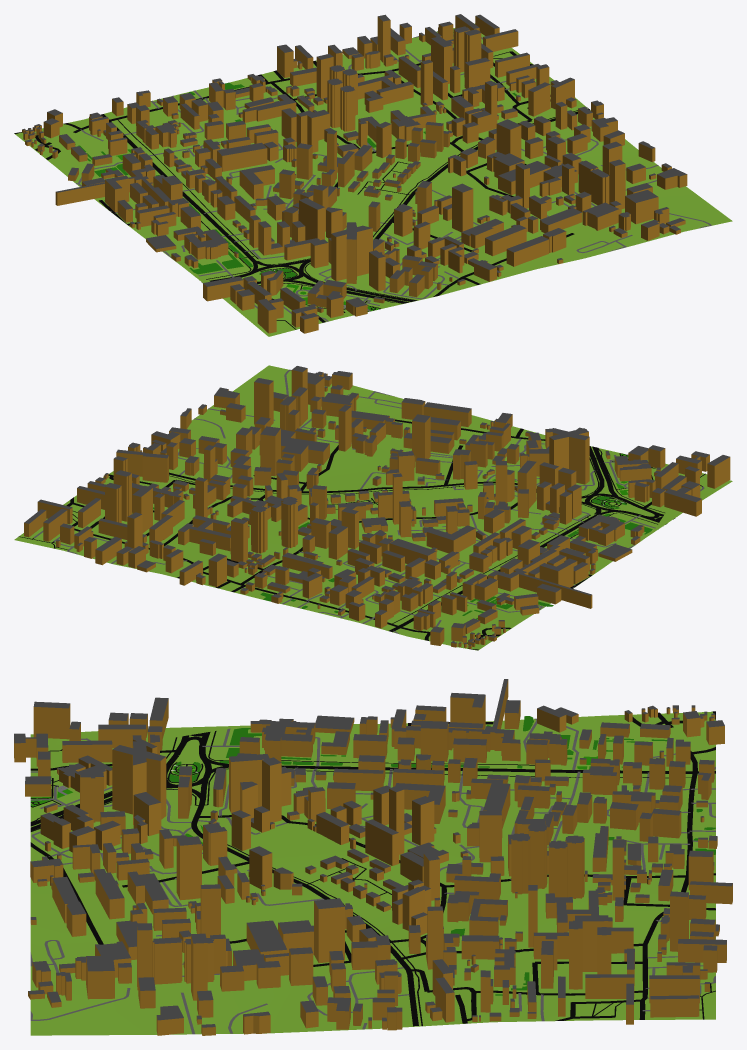
Rendered from tile_10_04.glb.
3 renders of one model, top to bottom at view 1: azimuth 30°, elevation 25°; view 2: azimuth 150°, elevation 25°; view 3: azimuth 270°, elevation 25°, orthographic. The views are drawn at different scales.
Visible parts, largest first — view 1: Ub_small.osm_buildings_10_04, Terrain_10_04, Ub_small.osm_roads_service_10_04, Ub_small.osm_roads_residential_10_04, Ub_small.osm_paths_footway_10_04, Ub_small.osm_forest_10_04, Ub_small.osm_roads_trunk_10_04, Ub_small.osm_roads_primary_10_04, Ub_small.osm_roads_secondary_10_04; view 2: Ub_small.osm_buildings_10_04, Terrain_10_04, Ub_small.osm_roads_service_10_04, Ub_small.osm_roads_residential_10_04, Ub_small.osm_paths_footway_10_04, Ub_small.osm_roads_trunk_10_04, Ub_small.osm_forest_10_04, Ub_small.osm_roads_secondary_10_04; view 3: Ub_small.osm_buildings_10_04, Terrain_10_04, Ub_small.osm_roads_residential_10_04, Ub_small.osm_roads_service_10_04, Ub_small.osm_forest_10_04, Ub_small.osm_paths_footway_10_04, Ub_small.osm_roads_secondary_10_04, Ub_small.osm_roads_trunk_10_04, Ub_small.osm_roads_primary_10_04.
Boxes of the visible parts, bbox=[...] form: Ub_small.osm_buildings_10_04: bbox=[22, 14, 687, 333]; Terrain_10_04: bbox=[14, 23, 732, 336]; Ub_small.osm_roads_service_10_04: bbox=[75, 34, 711, 321]; Ub_small.osm_roads_residential_10_04: bbox=[14, 51, 574, 322]; Ub_small.osm_paths_footway_10_04: bbox=[117, 31, 587, 329]; Ub_small.osm_forest_10_04: bbox=[75, 82, 517, 277]; Ub_small.osm_roads_trunk_10_04: bbox=[201, 264, 416, 303]; Ub_small.osm_roads_primary_10_04: bbox=[101, 114, 255, 261]; Ub_small.osm_roads_secondary_10_04: bbox=[251, 108, 590, 272]; Ub_small.osm_buildings_10_04: bbox=[24, 366, 730, 648]; Terrain_10_04: bbox=[14, 365, 732, 650]; Ub_small.osm_roads_service_10_04: bbox=[34, 369, 704, 634]; Ub_small.osm_roads_residential_10_04: bbox=[66, 419, 651, 650]; Ub_small.osm_paths_footway_10_04: bbox=[18, 448, 705, 624]; Ub_small.osm_roads_trunk_10_04: bbox=[585, 446, 675, 524]; Ub_small.osm_forest_10_04: bbox=[153, 496, 652, 619]; Ub_small.osm_roads_secondary_10_04: bbox=[169, 472, 619, 514]; Ub_small.osm_buildings_10_04: bbox=[14, 679, 732, 1035]; Terrain_10_04: bbox=[30, 711, 715, 1035]; Ub_small.osm_roads_residential_10_04: bbox=[30, 711, 715, 1023]; Ub_small.osm_roads_service_10_04: bbox=[30, 718, 715, 1034]; Ub_small.osm_forest_10_04: bbox=[169, 716, 715, 995]; Ub_small.osm_paths_footway_10_04: bbox=[30, 731, 715, 1026]; Ub_small.osm_roads_secondary_10_04: bbox=[175, 758, 418, 1026]; Ub_small.osm_roads_trunk_10_04: bbox=[30, 732, 211, 830]; Ub_small.osm_roads_primary_10_04: bbox=[281, 765, 715, 773].
Bounding box in the file's own units: 1067 × 115 × 976.
